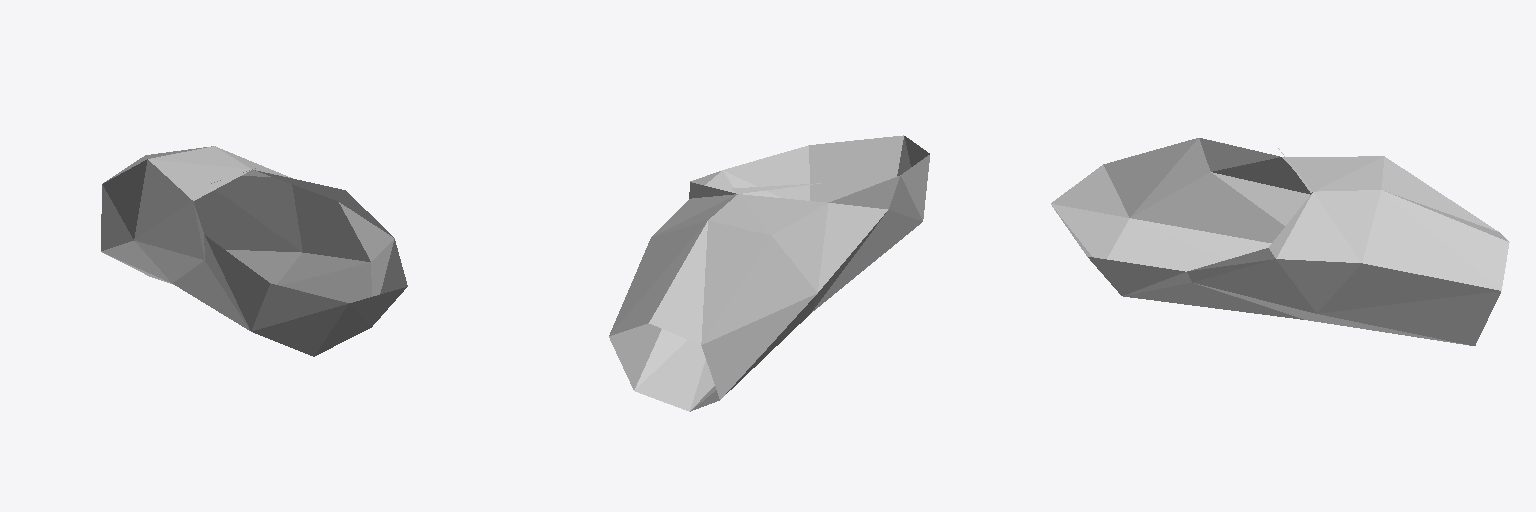
Rendered from PiernaDerecha.obj.
3 renders of one model, left to right at view 1: azimuth 30°, elevation 25°; view 2: azimuth 150°, elevation 25°; view 3: azimuth 270°, elevation 25°, orthographic.
Parts seen in each view (by area): view 1: aca.015_aca.017; view 2: aca.015_aca.017; view 3: aca.015_aca.017.
Boxes of the visible parts, box(x1,y1,x2,y2) form: aca.015_aca.017: box(101, 146, 407, 356); aca.015_aca.017: box(609, 135, 929, 411); aca.015_aca.017: box(1051, 138, 1509, 345).
Size of the model in its own units: 0.2624 by 0.2305 by 0.5666.